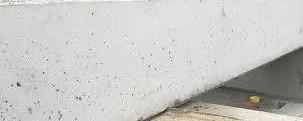Spalling: (1, 32, 177, 121)
